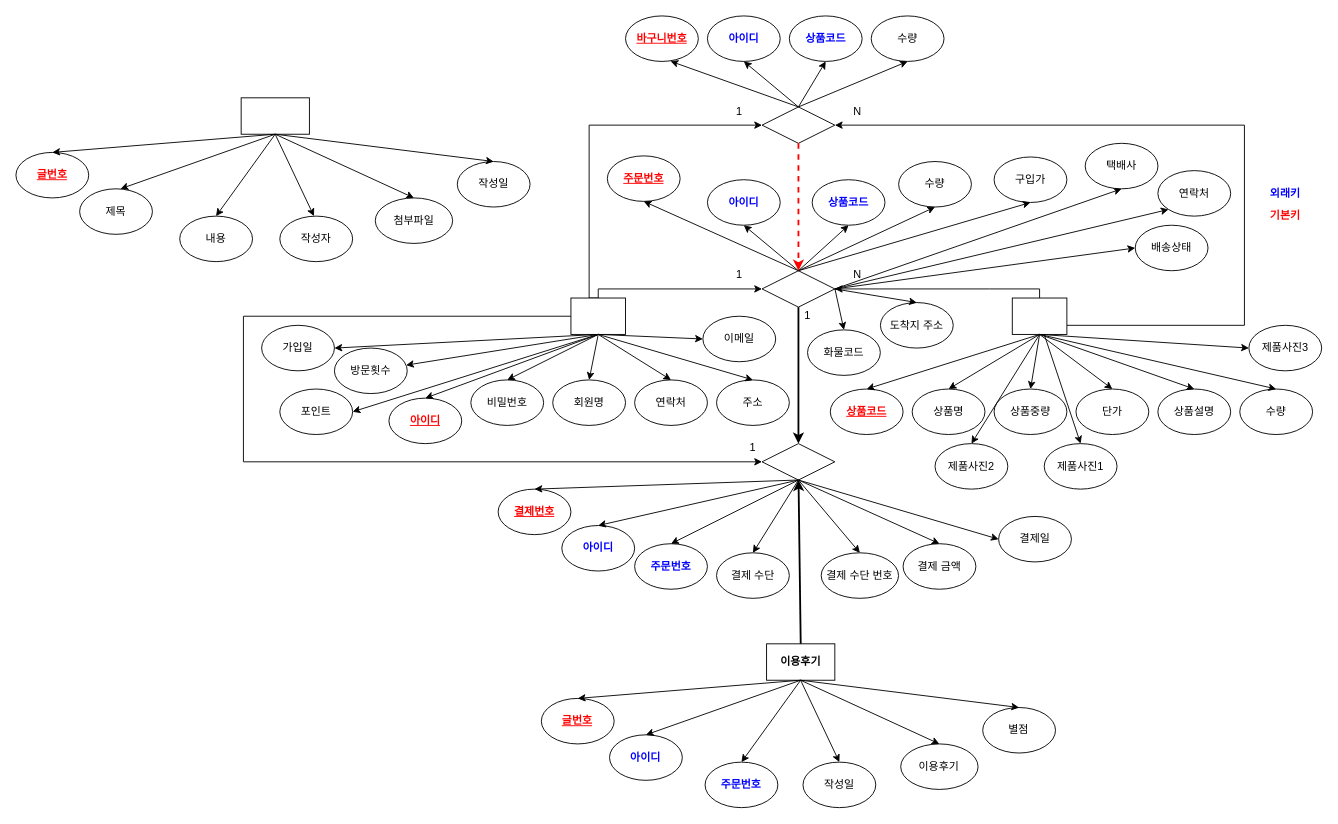
Image size: 1338x824. Some labels were removed from this diagram. Each missing label, with the box of its shape:
결제: (761, 443, 835, 480)
공지사항: (240, 97, 309, 134)
상품: (1011, 297, 1067, 334)
장바구니: (761, 106, 835, 143)
주문: (761, 270, 835, 307)
회원: (570, 297, 626, 334)
